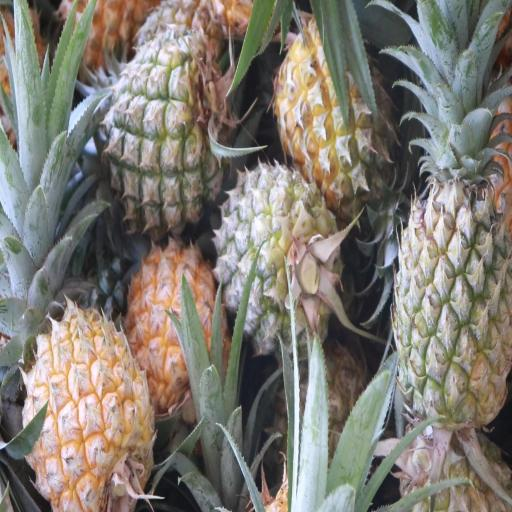------------------------------: (279, 15, 401, 202), (104, 45, 229, 221), (218, 165, 336, 350)
Pineapple - v8 v1: (23, 309, 154, 512), (128, 243, 226, 406)
